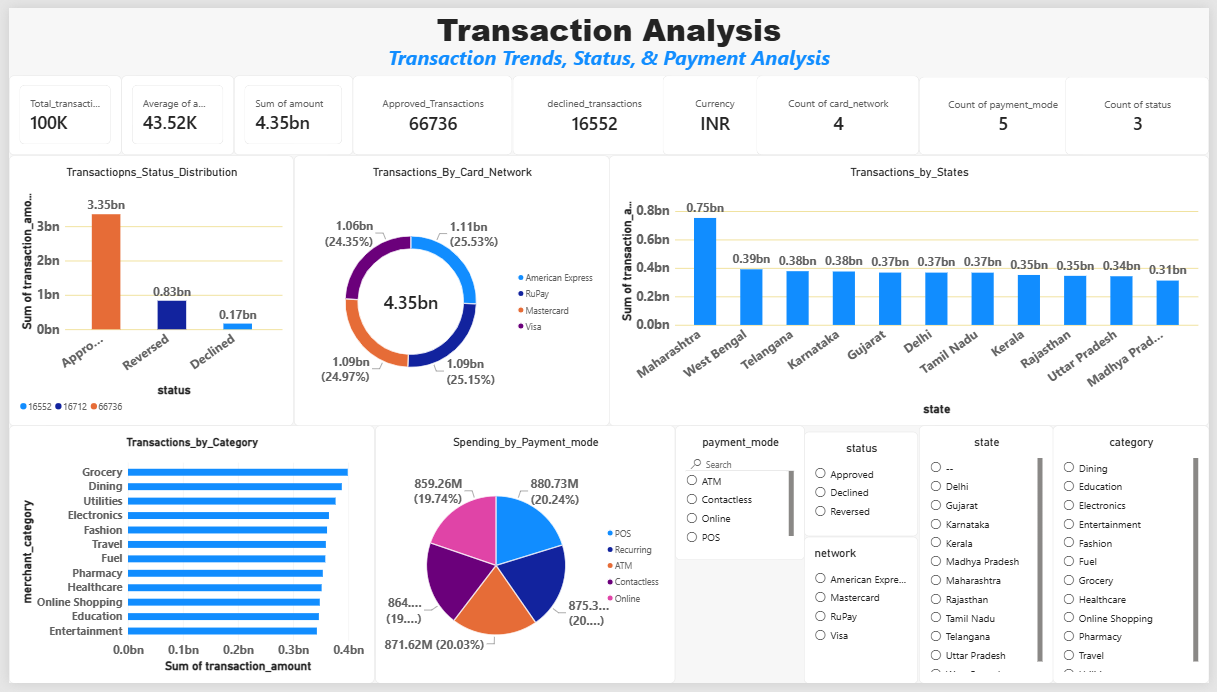

Layout of this report page (visuals, bound fields, positions):
{"tool":"powerbi","page":{"name":"project 2...excutive overview","canvas":[1920,1080],"ordinal":0},"visuals":[{"type":"cardVisual","fields":{"Data":["Sum(public transactions.amount)"]},"box":[192.5,115,212.5,115],"z":0},{"type":"cardVisual","fields":{"Data":["Count(public transactions.transaction_id)"]},"box":[0,112.5,192.5,117.5],"z":1000},{"type":"cardVisual","fields":{"Data":["Avg(public transactions.amount)"]},"box":[405,115,225,115],"z":2000},{"type":"cardVisual","fields":{"Data":["Sum(public category_approved_rate.approved_transactions)"]},"box":[630,115,222.5,115],"z":3000},{"type":"cardVisual","fields":{"Data":["Sum(public category_declined_rate.declined_transactions)"]},"box":[852.5,115,215,115],"z":4000},{"type":"cardVisual","fields":{"Data":["Sum(public category_reversed_rate.reversed_transactions)"]},"box":[1277.5,112.5,222.5,115],"z":5000},{"type":"cardVisual","fields":{"Data":["public branches.RRRR"]},"box":[1067.5,115,210,115],"z":6000},{"type":"cardVisual","fields":{"Data":["public branches.declined_rate"]},"box":[1500,115,190,112.5],"z":7000},{"type":"cardVisual","fields":{"Data":["public branches.reversed_rate"]},"box":[1690,112.5,230,115],"z":8000},{"type":"lineChart","title":"Montly_Transactions_Amount","fields":{"Category":["public monthly_transaction_amountssssss.years","public monthly_transaction_amountssssss.month_names"],"Y":["Sum(public monthly_transaction_amountssssss.tota_revenue)"]},"box":[0,230,787.5,457.5],"z":9000},{"type":"lineChart","title":"Monthly_Transaction_Volumes","fields":{"Category":["public monthly_transaction_amountssssss.years","public monthly_transaction_amountssssss.month_names"],"Y":["Sum(public monthly_transaction_amountssssss.noof_transactions)"]},"box":[0,687,852.2,393.5],"z":10000},{"type":"barChart","title":"Spending_Merchant_Category","fields":{"Category":["public category_spending.merchant_category"],"Y":["Sum(public category_spending.total_transaction_amount)"]},"box":[787.5,235,490,452.5],"z":11000},{"type":"barChart","title":"Spending_By_Card_Type","fields":{"Category":["public spending_by_card_type.card_type"],"Y":["Sum(public spending_by_card_type.total_spending)"]},"box":[852.2,687,637,393.5],"z":12000},{"type":"barChart","title":"Top 10 Customers By Spending","fields":{"Category":["public top_10_customers.customer_id"],"Y":["Sum(public top_10_customers.total_spending)"]},"box":[1278.3,234.8,641.3,452.2],"z":13000},{"type":"listSlicer","fields":{"Values":["public monthly_transaction_amountssssss.years"]},"box":[1704.3,684.8,215.2,171.7],"z":14000},{"type":"listSlicer","fields":{"Values":["public spending_by_card_type.card_type"]},"box":[1489.1,856.5,215,222.5],"z":15000},{"type":"listSlicer","fields":{"Values":["public transactions.status"]},"box":[1489.1,687,215,172.5],"z":16000},{"type":"textbox","box":[0,0,1920,112.5],"z":17000}]}

Visuals, with their boxes in screenshot pixels (x1, y1, x2, y2), scaled from the page's 1920x1080 canvas onto the 1217x692 screenshot:
cardVisual - Sum(public transactions.amount): bbox=[122, 74, 257, 147]
cardVisual - Count(public transactions.transaction_id): bbox=[0, 72, 122, 147]
cardVisual - Avg(public transactions.amount): bbox=[257, 74, 399, 147]
cardVisual - Sum(public category_approved_rate.approved_transactions): bbox=[399, 74, 540, 147]
cardVisual - Sum(public category_declined_rate.declined_transactions): bbox=[540, 74, 677, 147]
cardVisual - Sum(public category_reversed_rate.reversed_transactions): bbox=[810, 72, 951, 146]
cardVisual - public branches.RRRR: bbox=[677, 74, 810, 147]
cardVisual - public branches.declined_rate: bbox=[951, 74, 1071, 146]
cardVisual - public branches.reversed_rate: bbox=[1071, 72, 1216, 146]
"Montly_Transactions_Amount" lineChart: bbox=[0, 147, 499, 441]
"Monthly_Transaction_Volumes" lineChart: bbox=[0, 440, 540, 691]
"Spending_Merchant_Category" barChart: bbox=[499, 151, 810, 441]
"Spending_By_Card_Type" barChart: bbox=[540, 440, 944, 691]
"Top 10 Customers By Spending" barChart: bbox=[810, 150, 1216, 440]
listSlicer - public monthly_transaction_amountssssss.years: bbox=[1080, 439, 1216, 549]
listSlicer - public spending_by_card_type.card_type: bbox=[944, 549, 1080, 691]
listSlicer - public transactions.status: bbox=[944, 440, 1080, 551]
textbox: bbox=[0, 0, 1216, 72]
